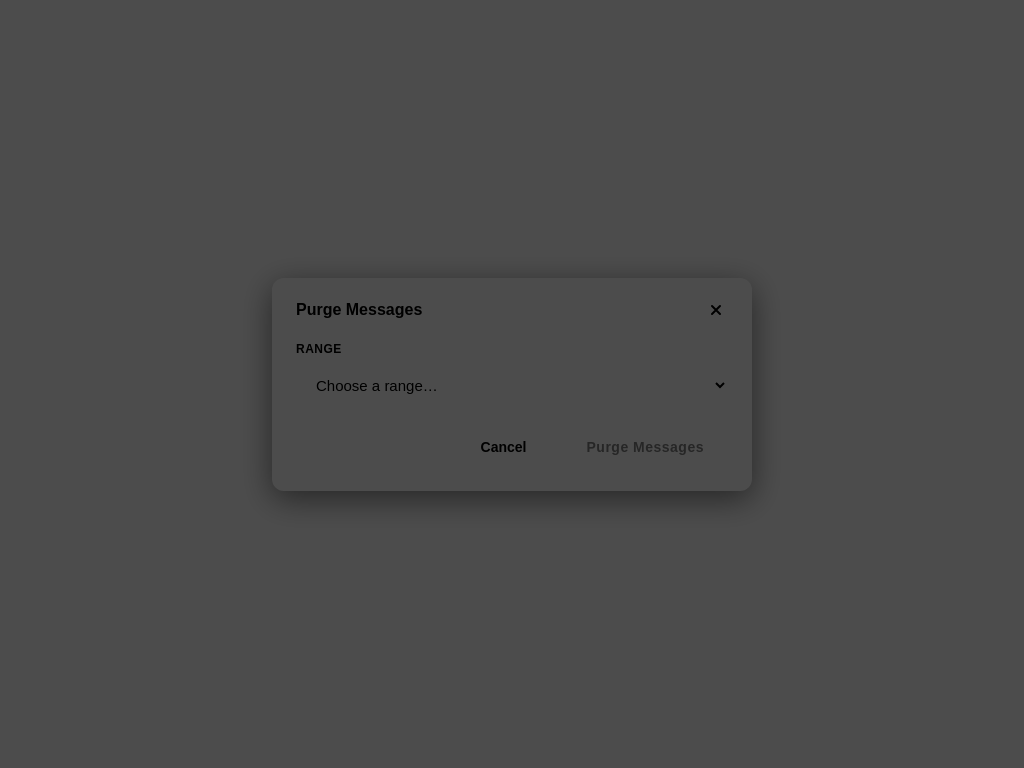
Test: PurgeMessagesModal — result stage › renders a countdown derived from Retry-After and never a fixed budget
The image size is (1024, 768).
Step 1. Select "Last 7 days" in the dropdown labelled "Range" → (512, 385), box 296,364 -> 728,406
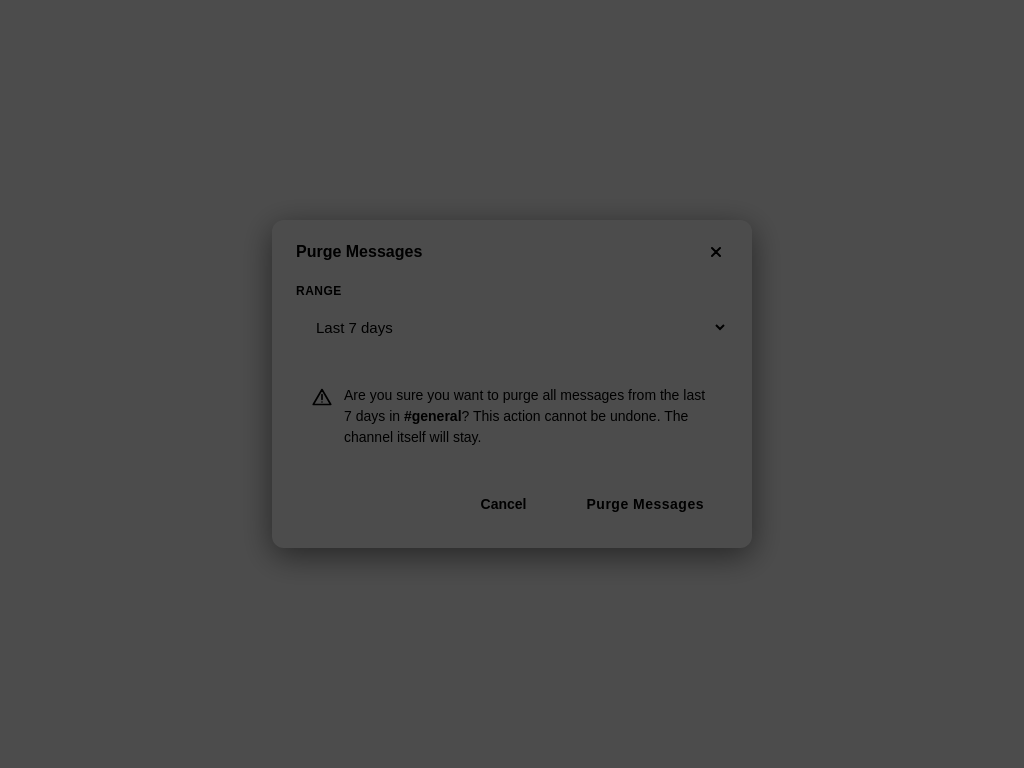
Step 2. Click the button "Purge Messages" → (645, 504), box 562,484 -> 728,524
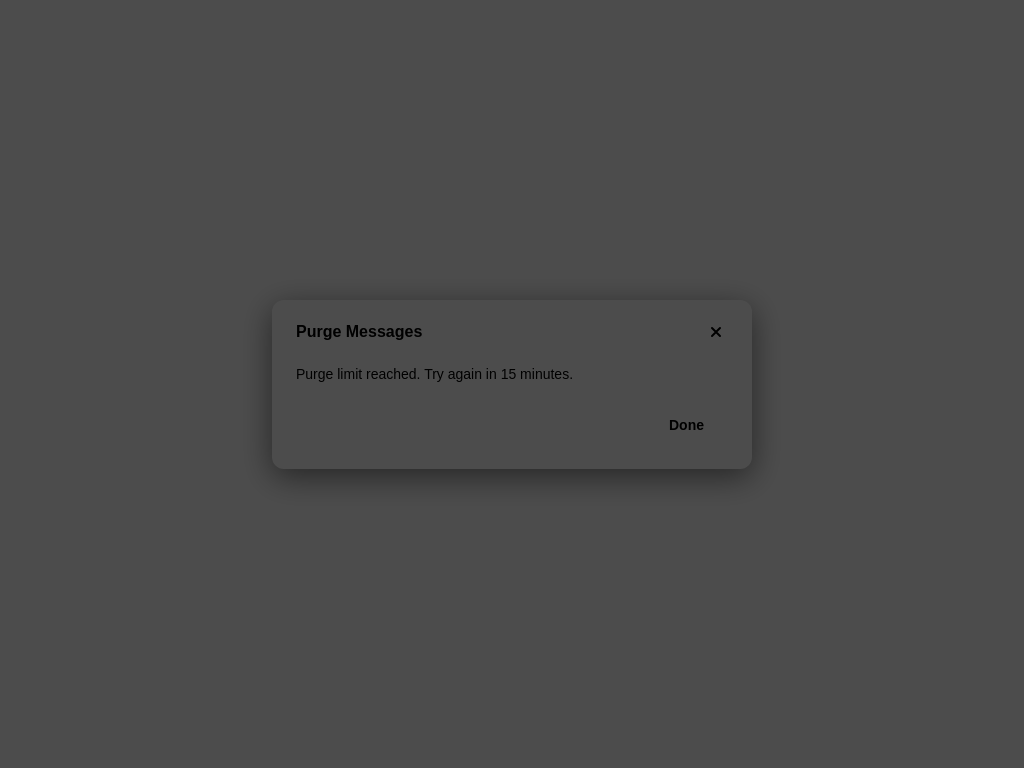
expect the message reads "Purge limit reached. Try again in 15 minutes.": met, box 296,366 -> 573,382
